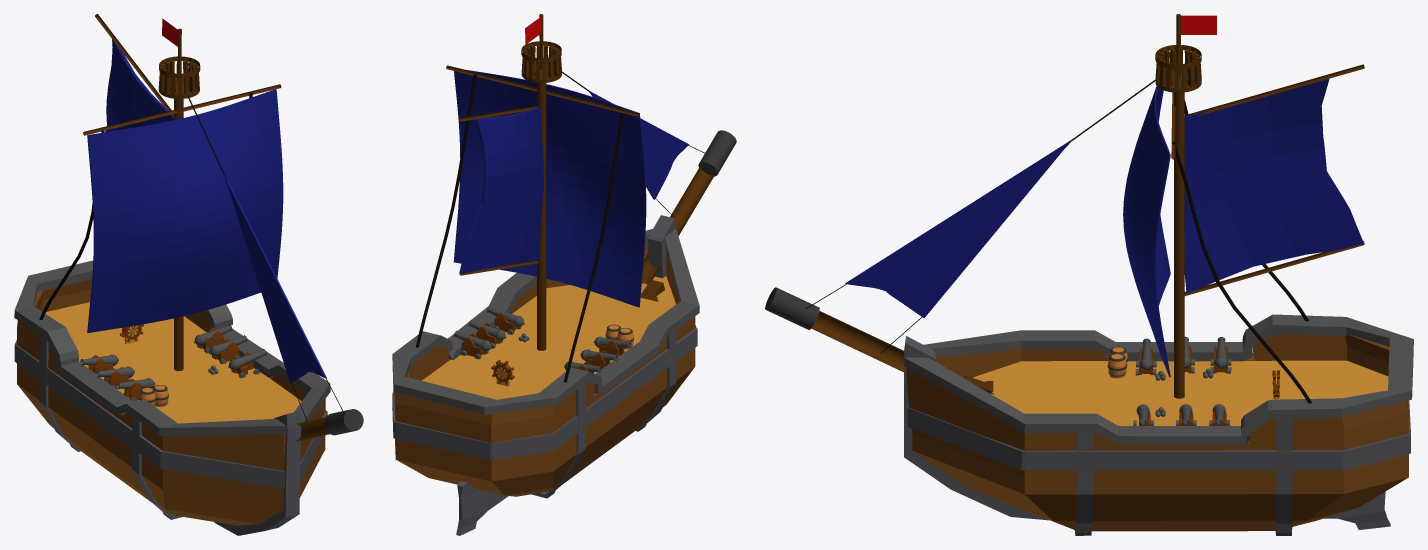
The model's file is EnemyBoatLevel1.fbx.
3 views of the same model, side by side, from view 1: azimuth 30°, elevation 25°; view 2: azimuth 150°, elevation 25°; view 3: azimuth 270°, elevation 25° (orthographic). The views are drawn at different scales.
Parts seen in each view (by area): view 1: Barquito; view 2: Barquito; view 3: Barquito.
Part boxes in pixels (x1=…): Barquito: x1=14, y1=14, x2=363, y2=535; Barquito: x1=392, y1=14, x2=736, y2=535; Barquito: x1=765, y1=14, x2=1413, y2=535.
Bounding box in the file's own units: 812 × 1830 × 2074.
